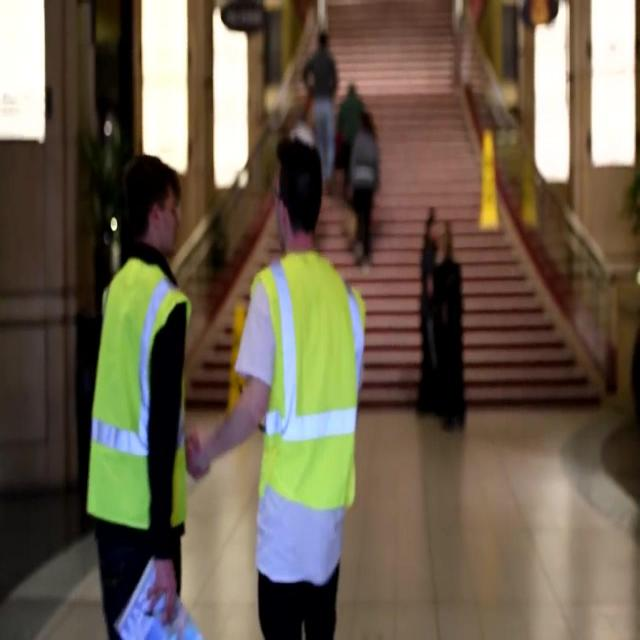Reflective-Jacket: (237, 244, 375, 535), (76, 259, 198, 549)
